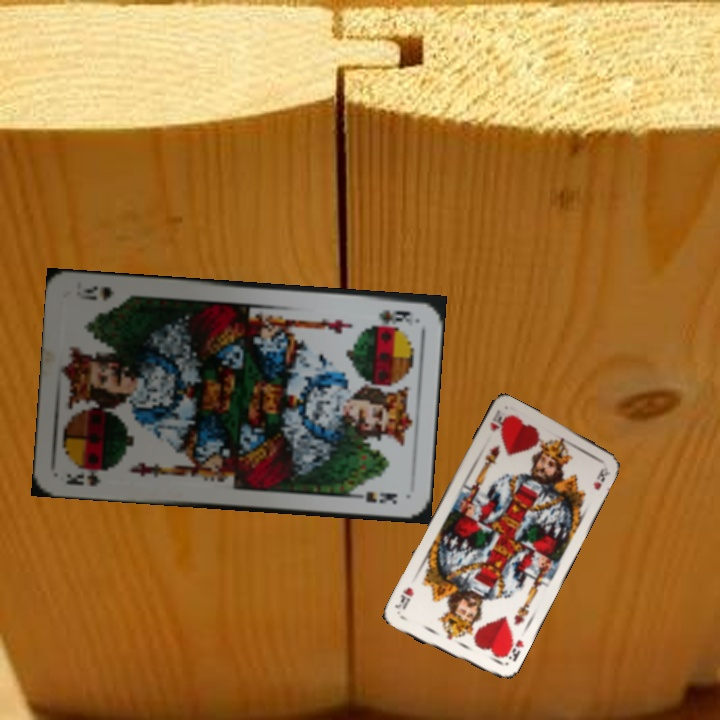HK: (499, 630, 526, 664), (486, 407, 505, 434)
SK: (62, 463, 111, 489), (374, 306, 416, 328)
